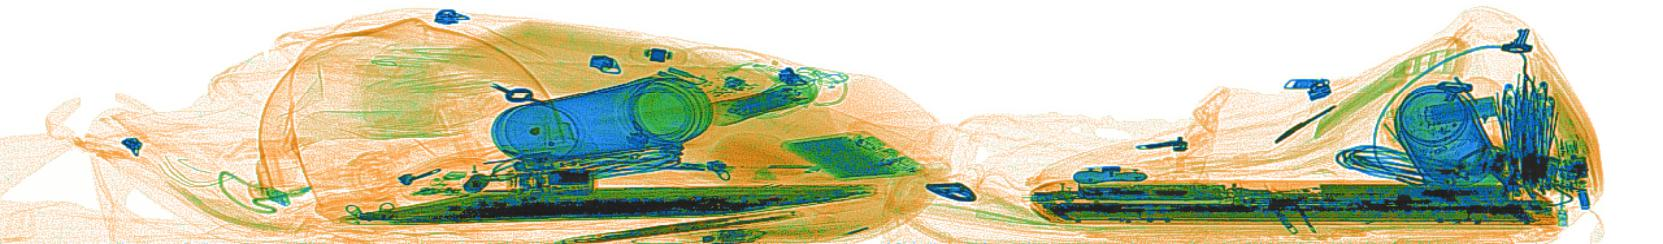battery: (1422, 93, 1499, 127), (731, 81, 798, 119), (460, 171, 490, 194)
